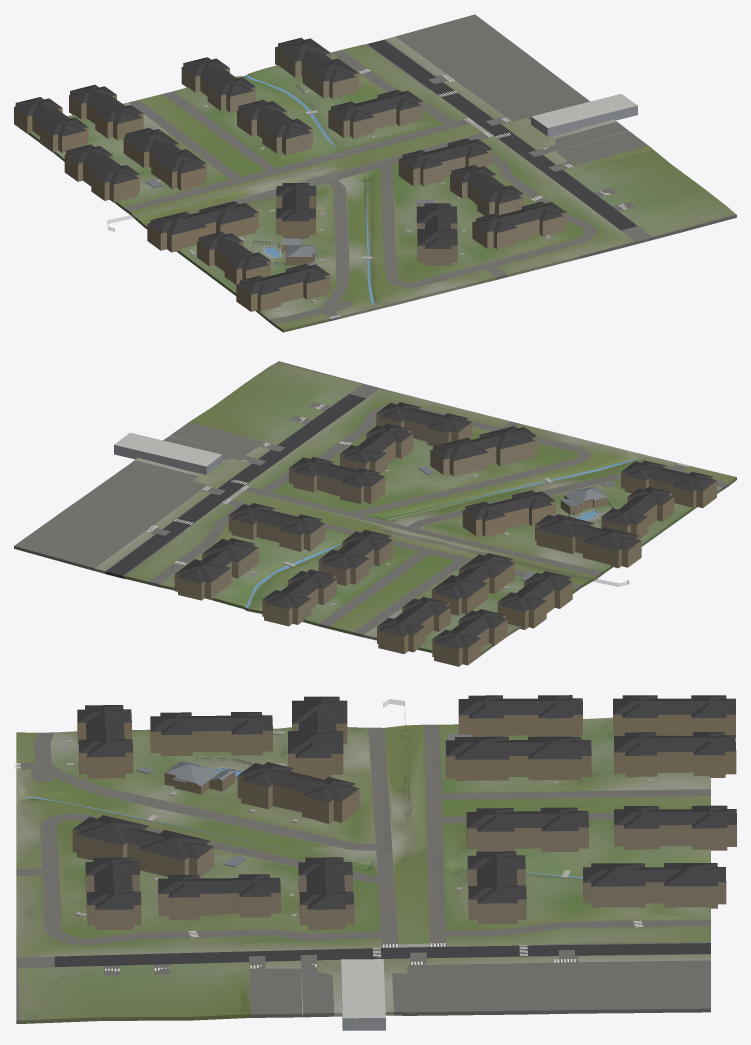
3 views of the same model, one above another, from view 1: azimuth 30°, elevation 25°; view 2: azimuth 150°, elevation 25°; view 3: azimuth 270°, elevation 25° (orthographic). The views are drawn at different scales.
Visible parts, largest first — view 1: D--2-0.L0:utd:matte, D--2-0.L0:utd:matte:flat, D--2-0.L0:utd:metal:flat, D--2-0.L0:utd:glass:flat, D--2-0.L0:utd:water; view 2: D--2-0.L0:utd:matte, D--2-0.L0:utd:matte:flat, D--2-0.L0:utd:metal:flat, D--2-0.L0:utd:water, D--2-0.L0:utd:glass:flat; view 3: D--2-0.L0:utd:matte, D--2-0.L0:utd:matte:flat, D--2-0.L0:utd:metal:flat, D--2-0.L0:utd:paint:flat, D--2-0.L0:utd:water.
Part boxes in pixels (bbox=[...]): D--2-0.L0:utd:matte: bbox=[28, 14, 736, 332]; D--2-0.L0:utd:matte:flat: bbox=[14, 37, 637, 311]; D--2-0.L0:utd:metal:flat: bbox=[144, 105, 637, 265]; D--2-0.L0:utd:glass:flat: bbox=[107, 84, 336, 264]; D--2-0.L0:utd:water: bbox=[244, 75, 374, 306]; D--2-0.L0:utd:matte: bbox=[14, 361, 736, 654]; D--2-0.L0:utd:matte:flat: bbox=[114, 402, 716, 666]; D--2-0.L0:utd:metal:flat: bbox=[114, 445, 614, 580]; D--2-0.L0:utd:water: bbox=[245, 458, 639, 608]; D--2-0.L0:utd:glass:flat: bbox=[250, 503, 629, 586]; D--2-0.L0:utd:matte: bbox=[16, 717, 710, 1023]; D--2-0.L0:utd:matte:flat: bbox=[67, 695, 736, 1018]; D--2-0.L0:utd:metal:flat: bbox=[136, 734, 472, 1030]; D--2-0.L0:utd:paint:flat: bbox=[14, 763, 643, 970]; D--2-0.L0:utd:water: bbox=[23, 768, 582, 878].
Bounding box in the file's own units: 289 × 19.2 × 266.
